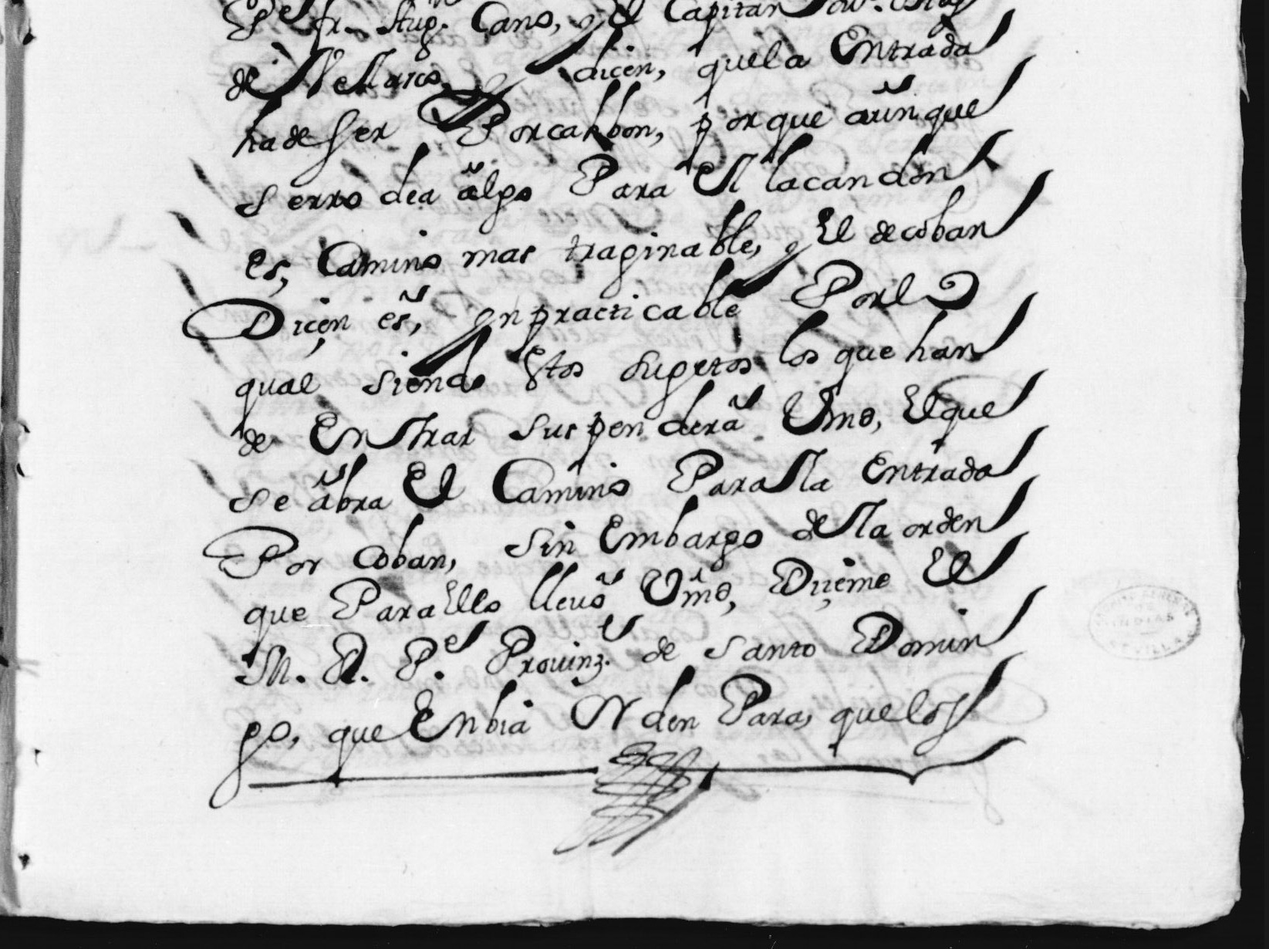lacandon: (765, 129, 1012, 192)
